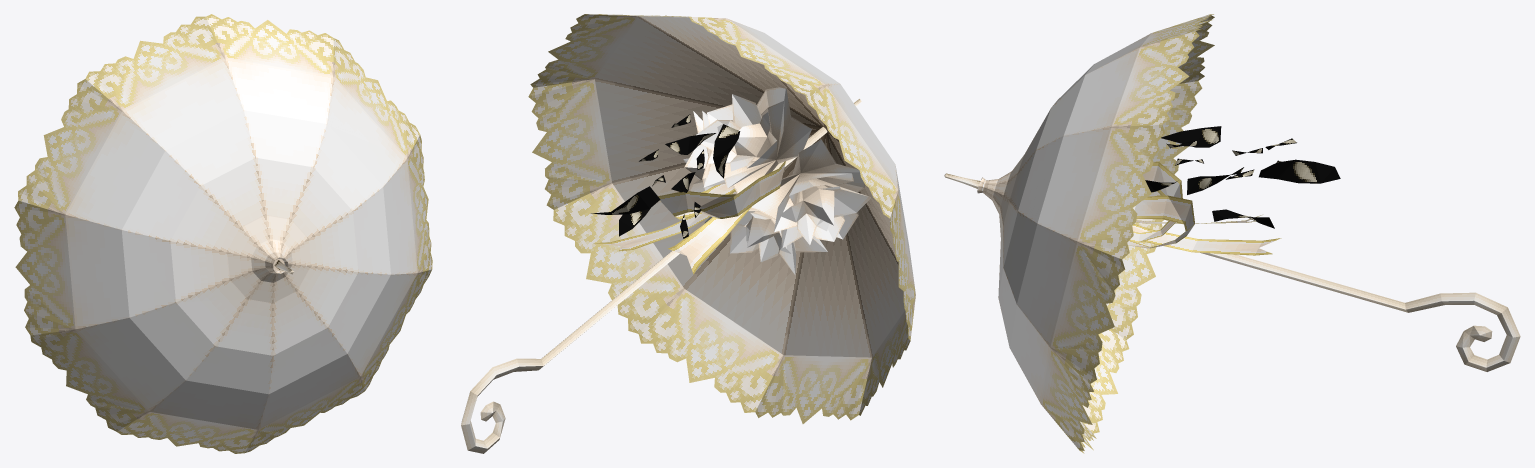
The model's file is acce789.obj.
3 renders of one model, left to right at view 1: azimuth 30°, elevation 25°; view 2: azimuth 150°, elevation 25°; view 3: azimuth 270°, elevation 25°, orthographic. The views are drawn at different scales.
Visible parts, largest first — view 1: acce789; view 2: acce789; view 3: acce789.
Part boxes in pixels (x1,y1,x2,y2): acce789: [14, 14, 432, 453]; acce789: [461, 14, 915, 453]; acce789: [944, 14, 1520, 453].
Size of the model in its own units: 0.9482 by 0.9635 by 1.23.
Materials: 2 (2 with a texture image).
